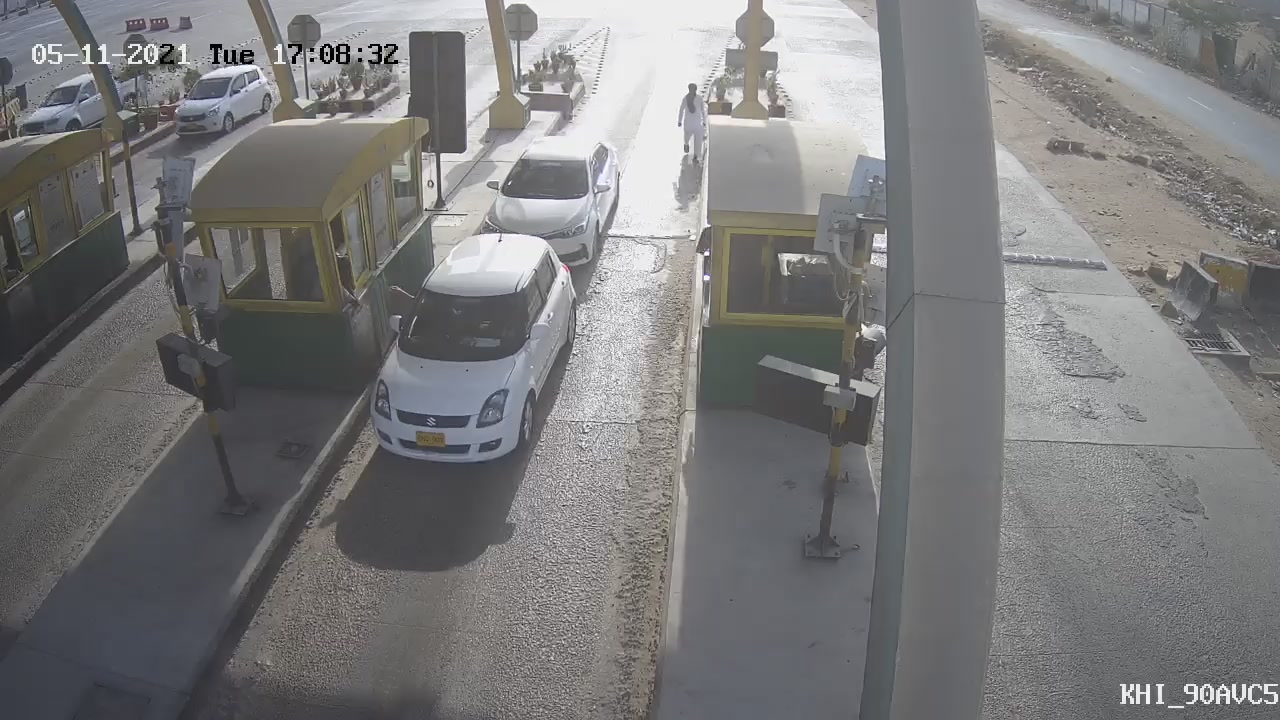F1: (355, 216, 591, 482), (470, 117, 633, 287)
